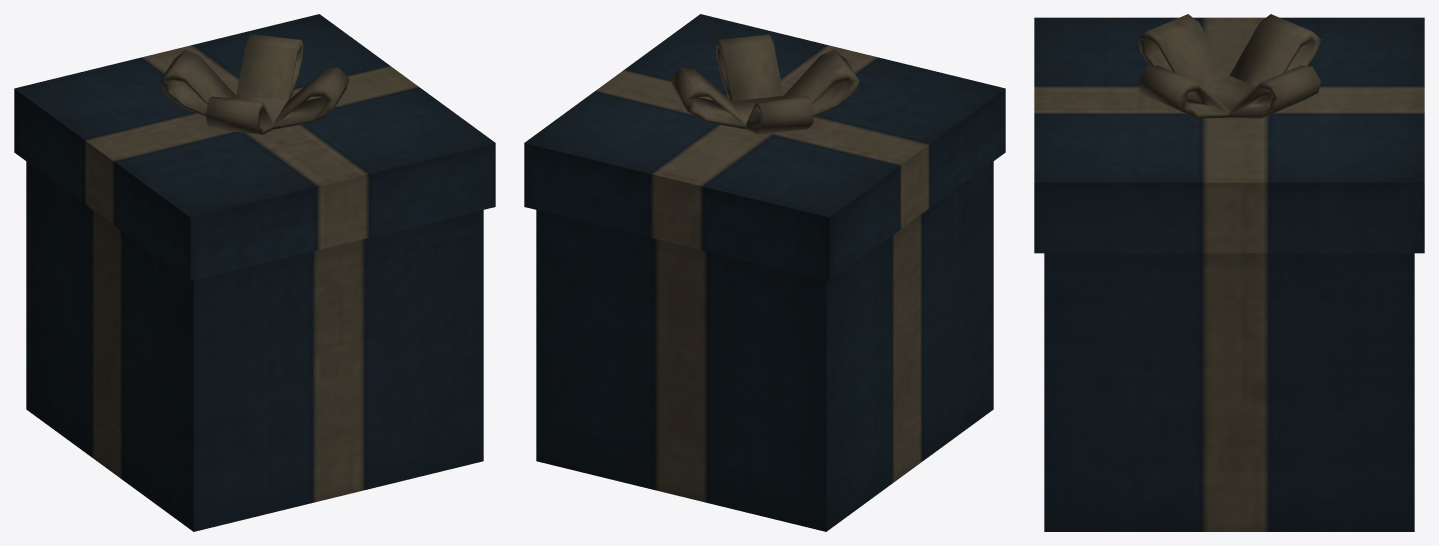
Rendered from gift_box_mx_1_2.obj.
The picture shows the model from 3 angles, left to right: view 1: azimuth 30°, elevation 25°; view 2: azimuth 150°, elevation 25°; view 3: azimuth 270°, elevation 25°; orthographic projection. The views are drawn at different scales.
Visible parts, largest first — view 1: gift_box_mx_1_2; view 2: gift_box_mx_1_2; view 3: gift_box_mx_1_2.
Part boxes in pixels (x1=…): gift_box_mx_1_2: x1=14, y1=14, x2=495, y2=531; gift_box_mx_1_2: x1=524, y1=14, x2=1005, y2=531; gift_box_mx_1_2: x1=1034, y1=14, x2=1424, y2=531.
Bounding box in the file's own units: 0.2 × 0.229 × 0.2.
